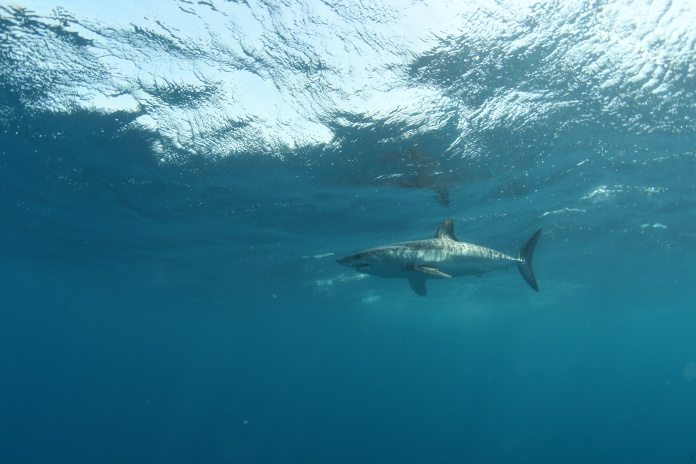Mako: (326, 212, 551, 304)
